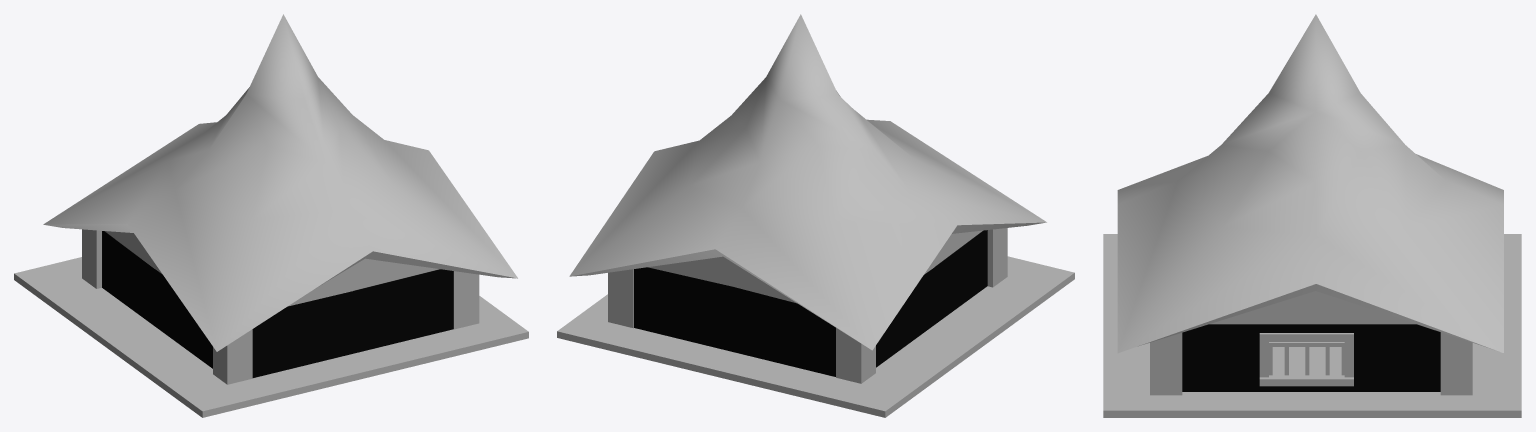
The model's file is TowerFloor1.fbx.
3 renders of one model, left to right at view 1: azimuth 30°, elevation 25°; view 2: azimuth 150°, elevation 25°; view 3: azimuth 270°, elevation 25°, orthographic. The views are drawn at different scales.
Parts seen in each view (by area): view 1: Roof, Floor, Wall1, Posts, Wall5; view 2: Roof, Floor, Wall3, Posts, Wall5; view 3: Roof, Floor, Wall6, Posts, Window.
Part boxes in pixels (<box>): Roof: <box>43,14,517,351</box>; Floor: <box>14,257,528,417</box>; Wall1: <box>252,269,453,377</box>; Posts: <box>82,229,479,384</box>; Wall5: <box>102,231,212,368</box>; Roof: <box>569,14,1046,350</box>; Floor: <box>557,256,1074,417</box>; Wall3: <box>634,267,835,376</box>; Posts: <box>608,228,1007,383</box>; Wall5: <box>876,230,987,367</box>; Roof: <box>1117,14,1503,353</box>; Floor: <box>1103,234,1521,417</box>; Wall6: <box>1182,324,1440,391</box>; Posts: <box>1150,291,1472,395</box>; Window: <box>1259,333,1353,386</box>.
Bounding box in the file's own units: 731 × 622 × 731.
